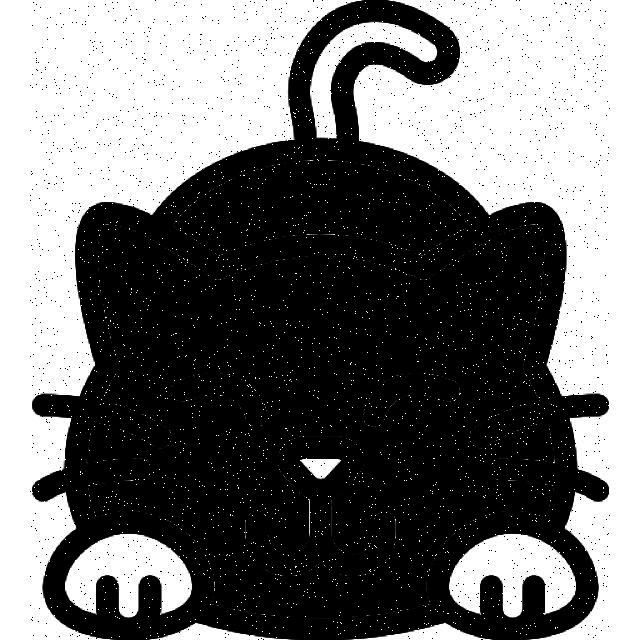cat: (31, 1, 611, 640)
